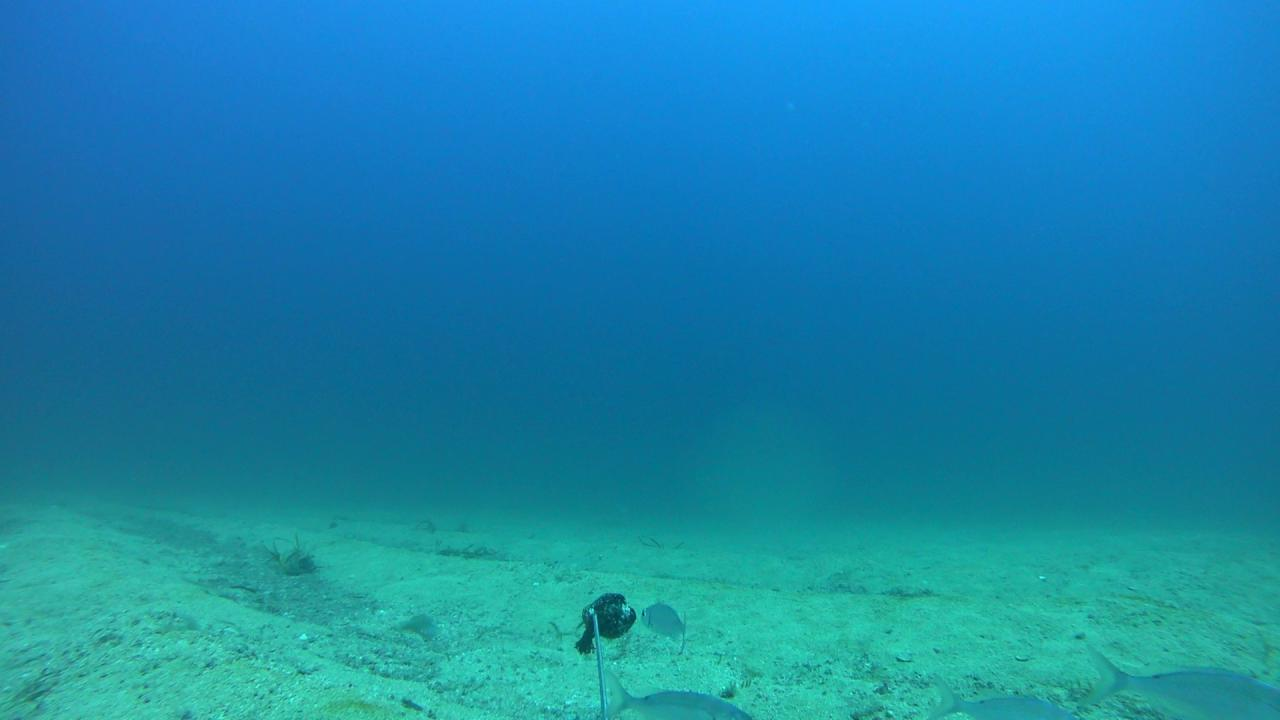pagellus: (640, 601, 687, 653)
